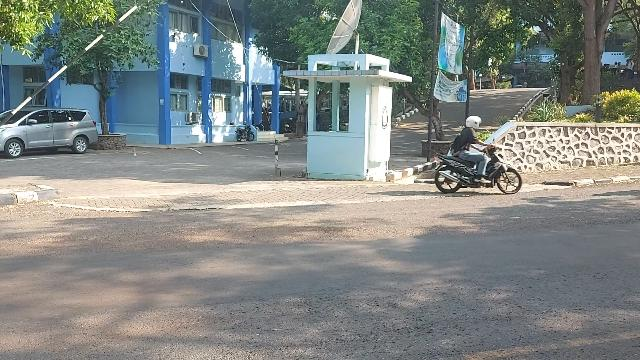motor: (434, 139, 523, 195), (467, 117, 483, 130)
